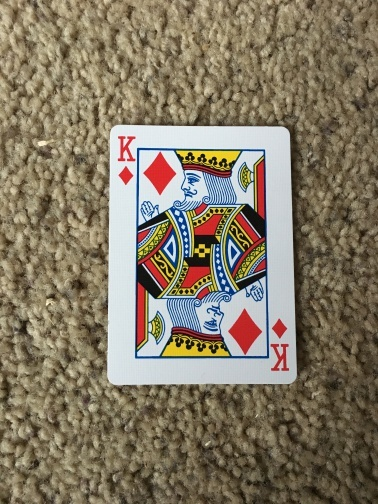king: (111, 129, 295, 381)
